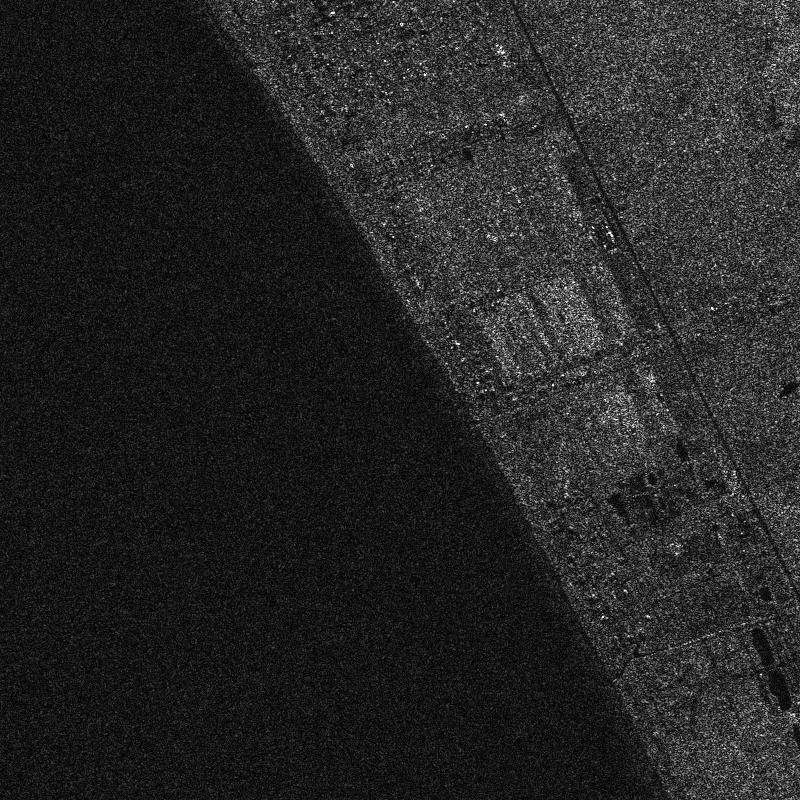land: (541, 29, 787, 524), (359, 14, 524, 235), (658, 556, 782, 791)
sea: (13, 14, 222, 787), (252, 273, 384, 782), (415, 472, 500, 784), (535, 652, 593, 782)
